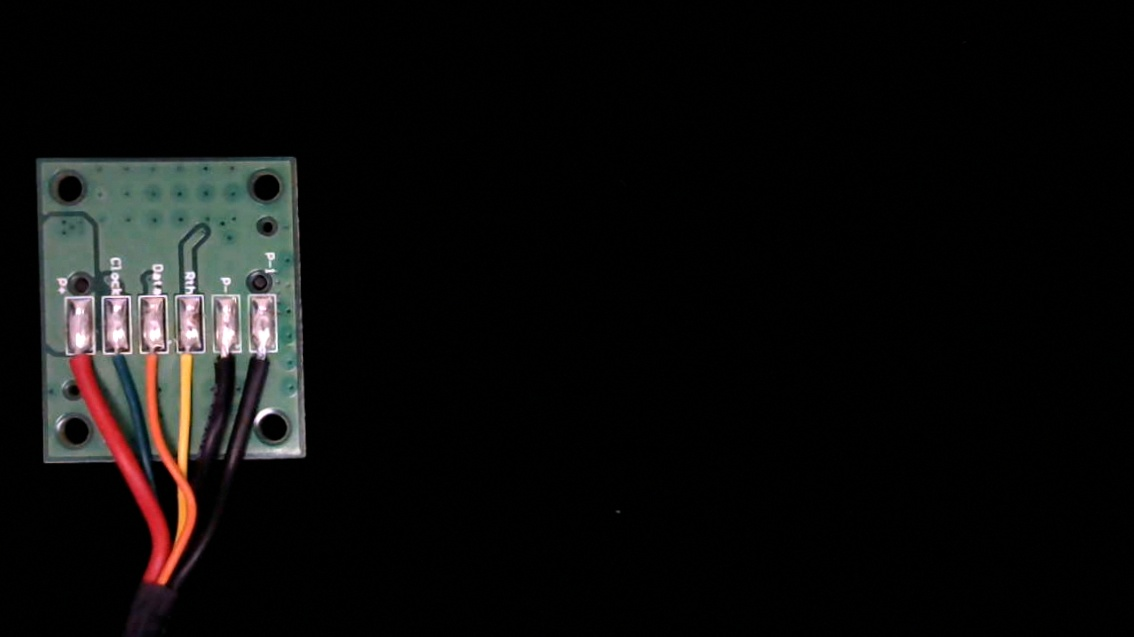Black: (211, 340, 240, 403)
Black1: (249, 340, 280, 401)
Green: (102, 339, 134, 403)
Orange: (140, 340, 171, 405)
Red: (64, 342, 97, 405)
Yellow: (173, 341, 205, 408)
